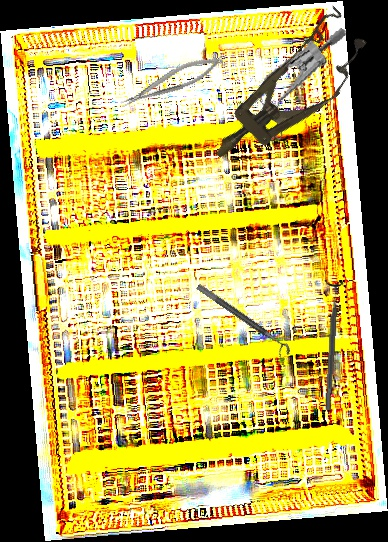Fixation Ring: (190, 282, 294, 363), (317, 279, 345, 411)
Needle Holder: (115, 49, 229, 113)
Speculum: (193, 4, 381, 182), (248, 14, 348, 155)
